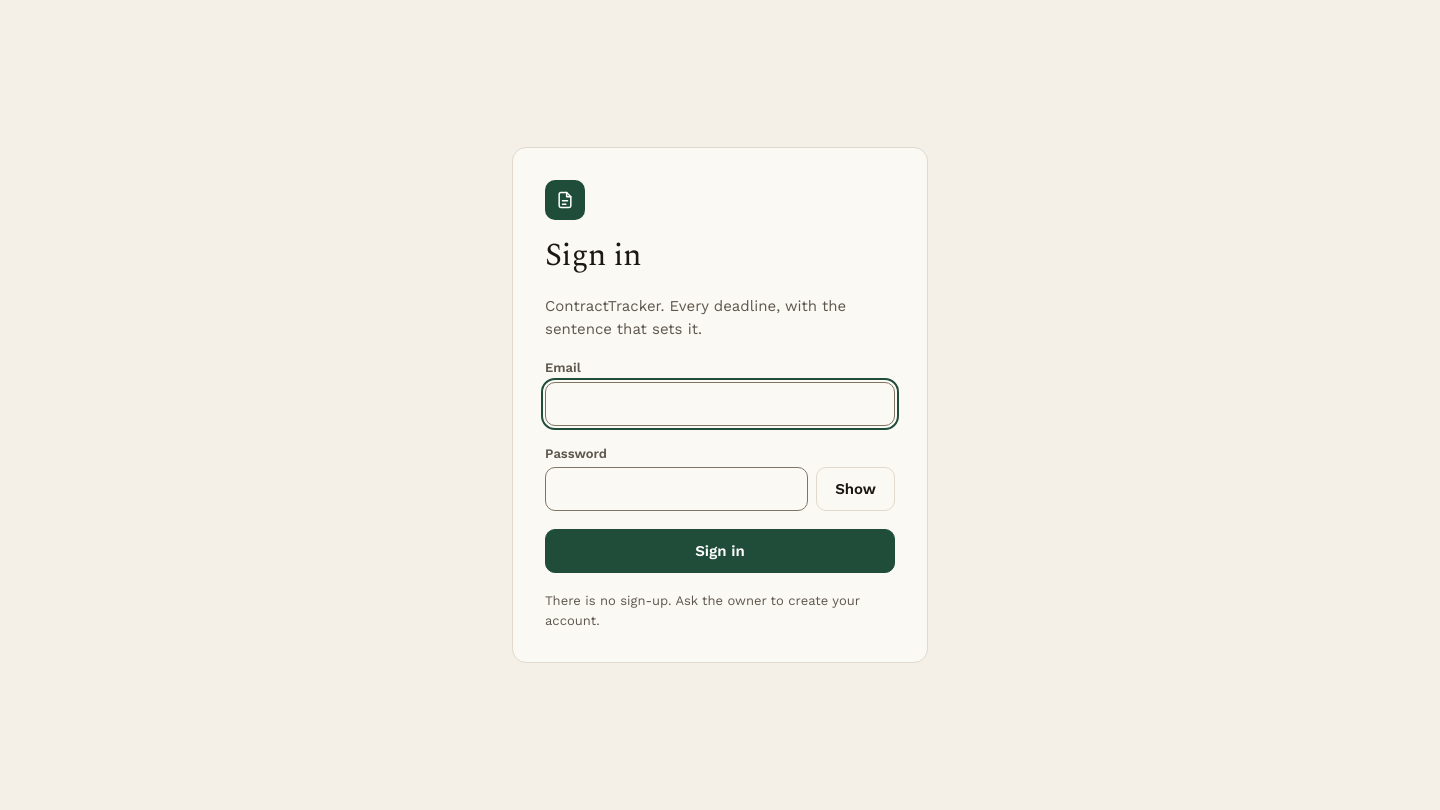
Test: the login page › TC-0205: a correct login sends the trimmed email and opens the app
The image size is (1440, 810).
Check: the heading "Sign in" is shown, box left=545, top=231, right=641, bottom=280
In the field labelled "Email": (720, 404) left=545, top=382, right=895, bottom=426, type "  owner@example.com "
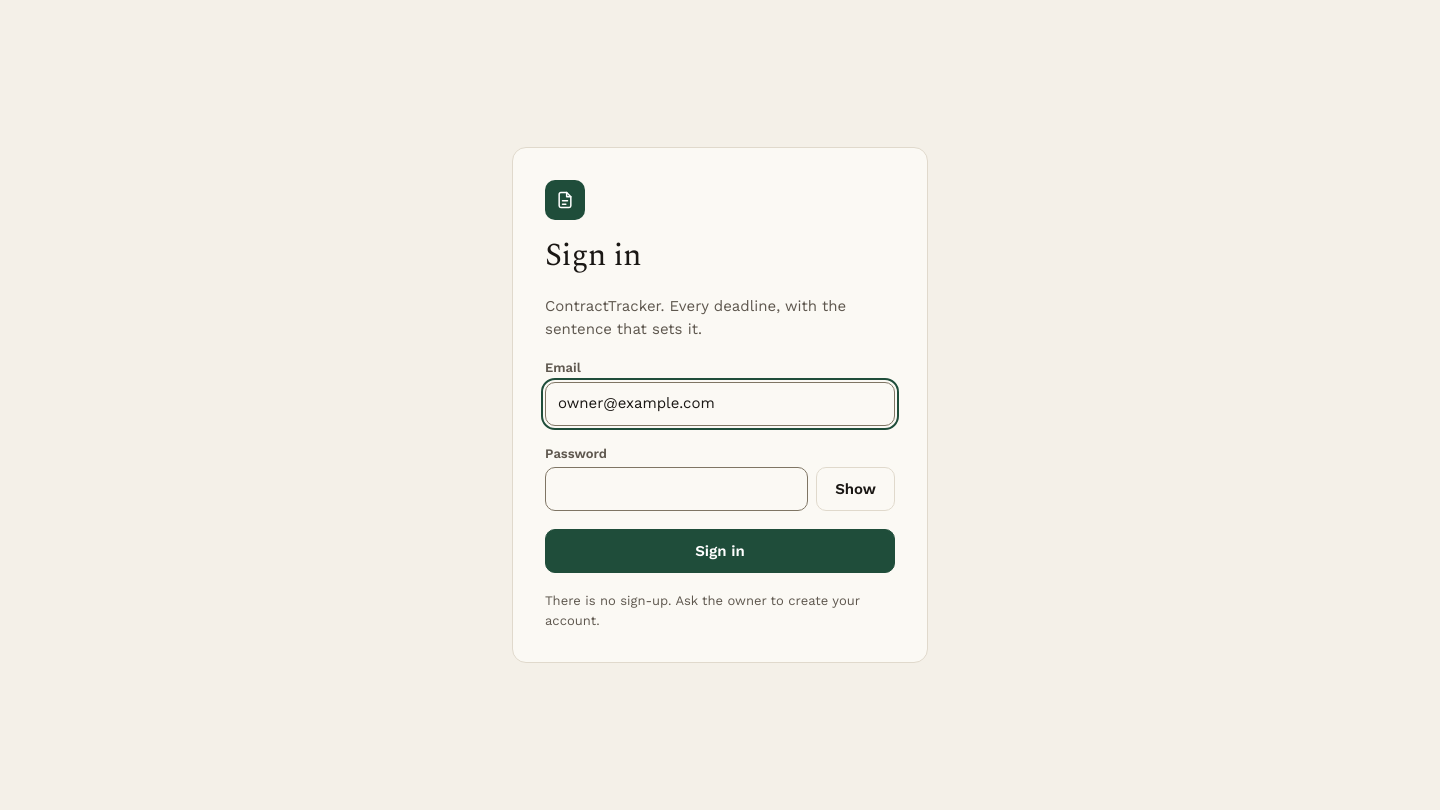
In the password field labelled "Password": (677, 489) left=545, top=467, right=808, bottom=511, type "right-password-1"
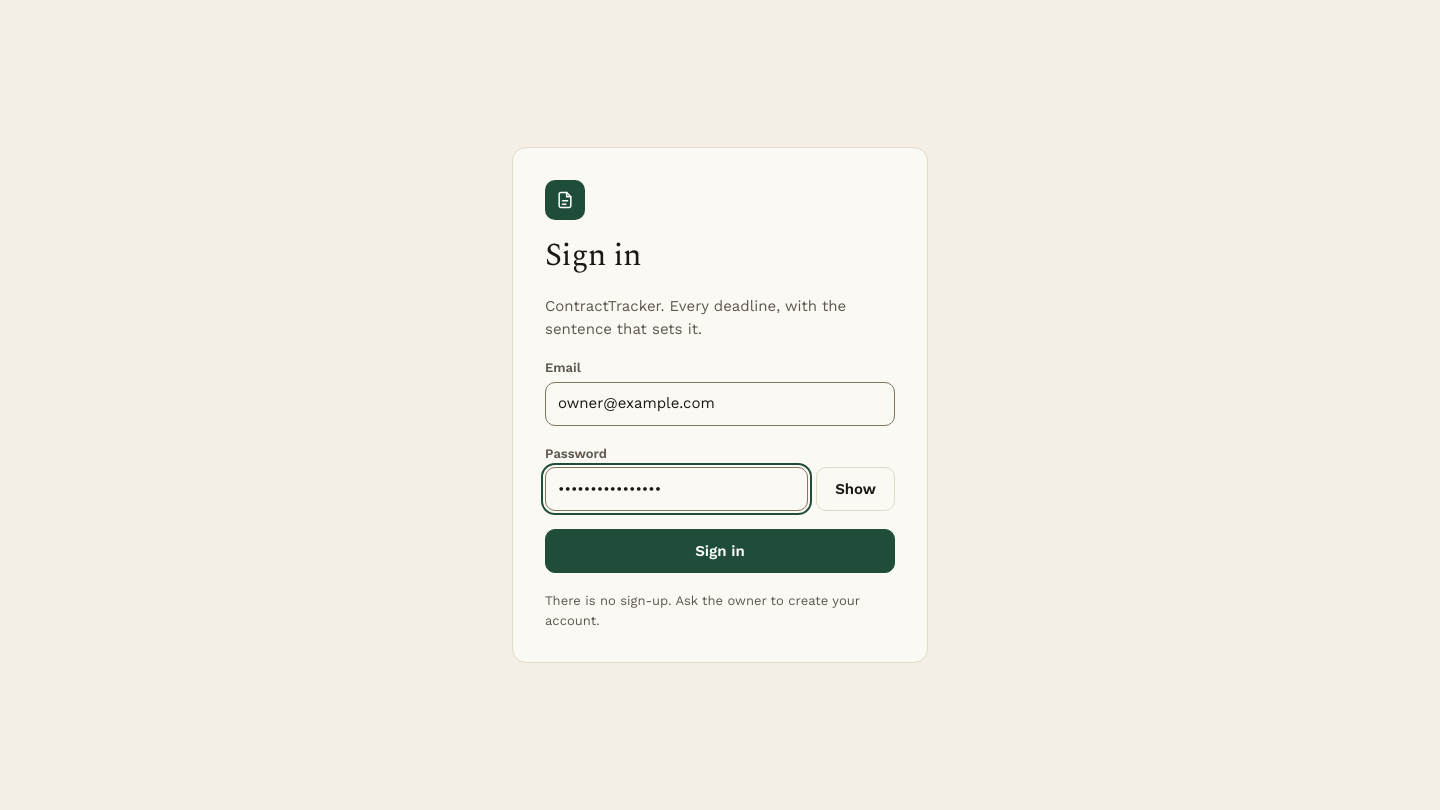
Click the button "Sign in": (720, 551) left=545, top=529, right=895, bottom=573
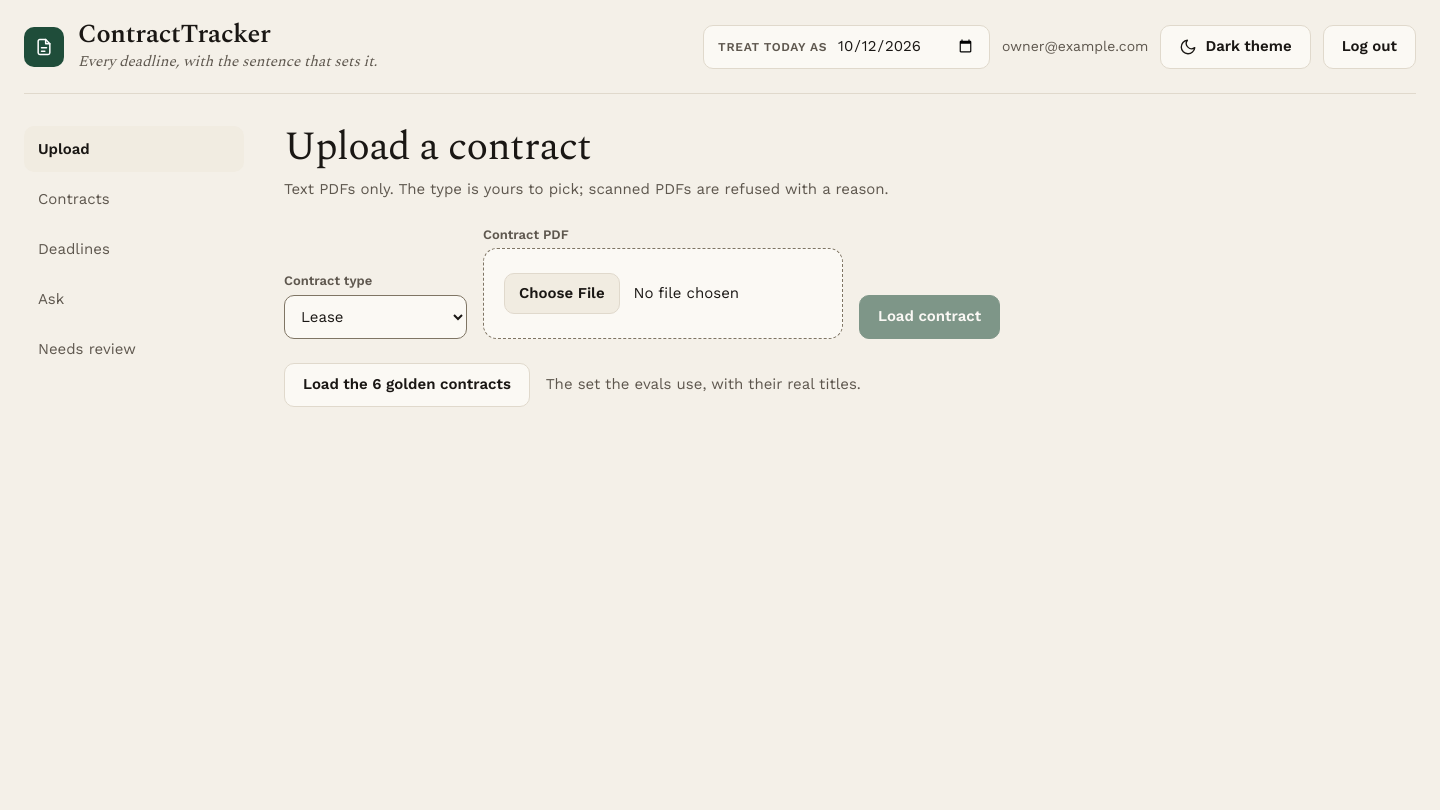
Check: the tab "Upload" is shown, box left=24, top=126, right=244, bottom=172
Check: the text "owner@example.com" is shown, box left=1002, top=36, right=1148, bottom=57
